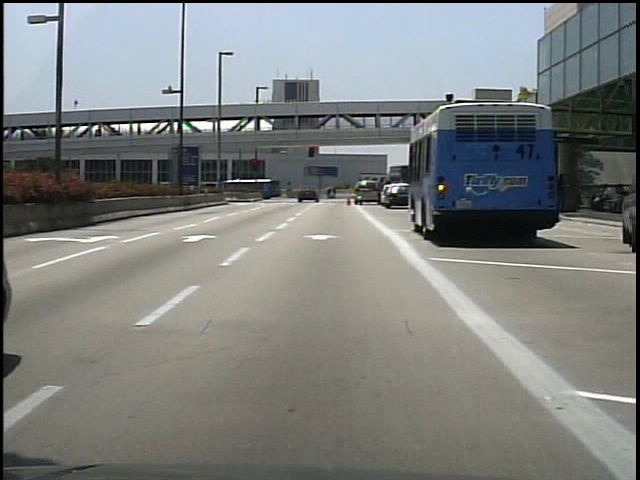person: (591, 183, 612, 210), (325, 187, 337, 201), (330, 185, 339, 201), (559, 175, 560, 210)
